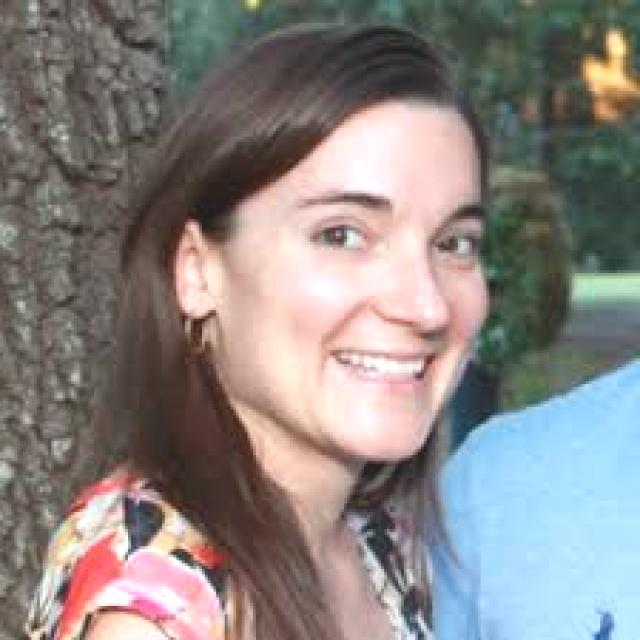normal_face: (166, 63, 494, 478)
